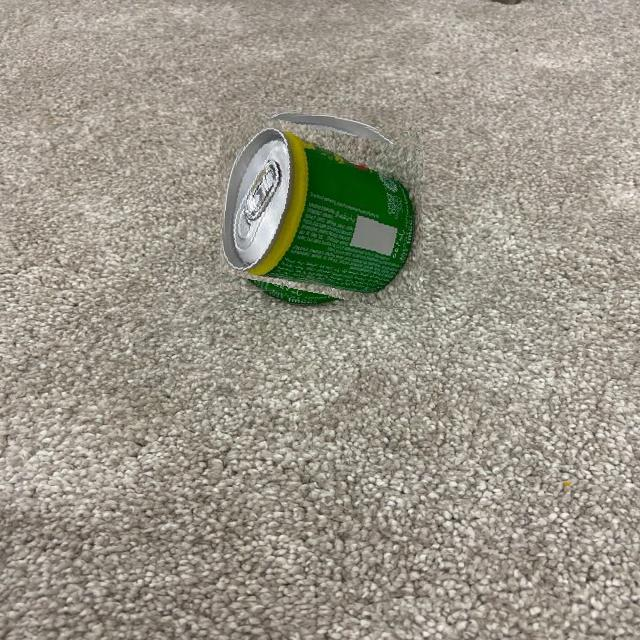recyclable: (222, 109, 421, 308)
